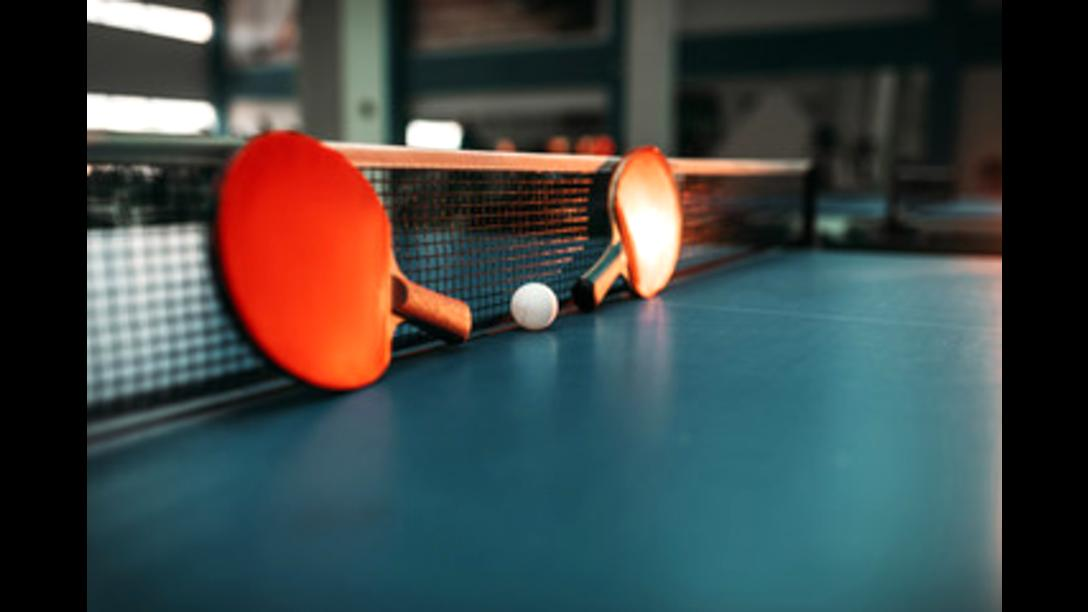Table-Tennis-Ball: (510, 282, 555, 328)
